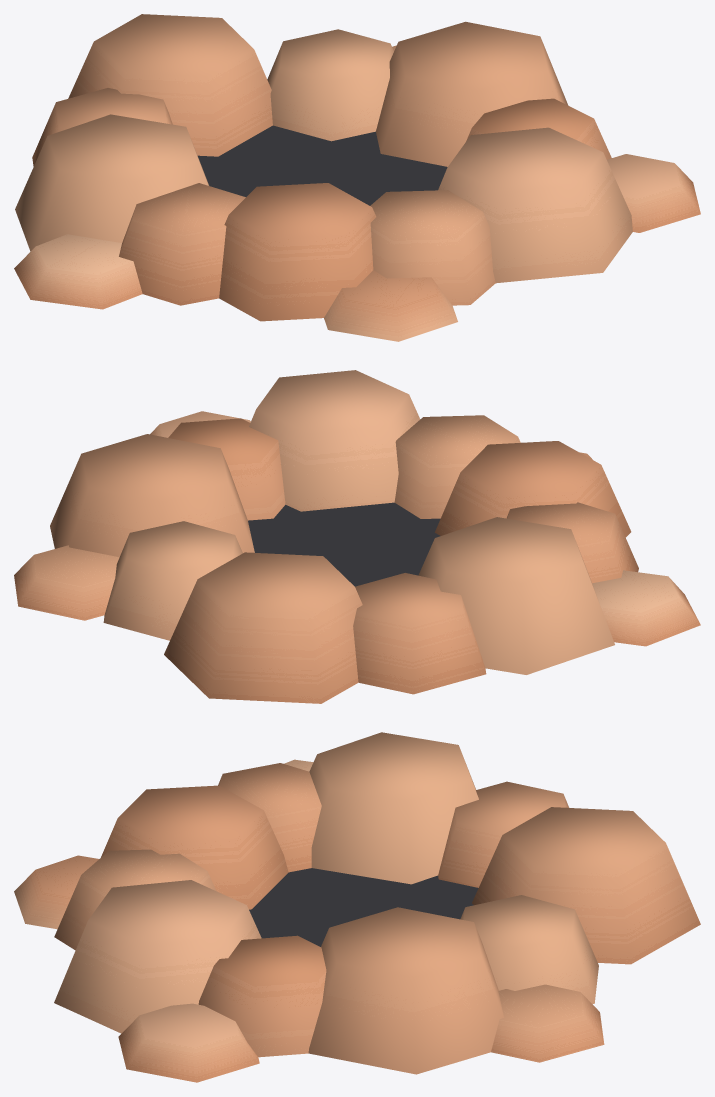
Rendered from hole.glb.
3 renders of one model, top to bottom at view 1: azimuth 30°, elevation 25°; view 2: azimuth 150°, elevation 25°; view 3: azimuth 270°, elevation 25°, orthographic. The views are drawn at different scales.
Parts seen in each view (by area): view 1: hole; view 2: hole; view 3: hole.
Part boxes in pixels (<box>): hole: <box>14,14,700,341</box>; hole: <box>14,370,700,703</box>; hole: <box>14,732,700,1082</box>.
Size of the model in its own units: 0.6209 by 0.0768 by 0.5868.
Materials: 1 (1 with a texture image).
